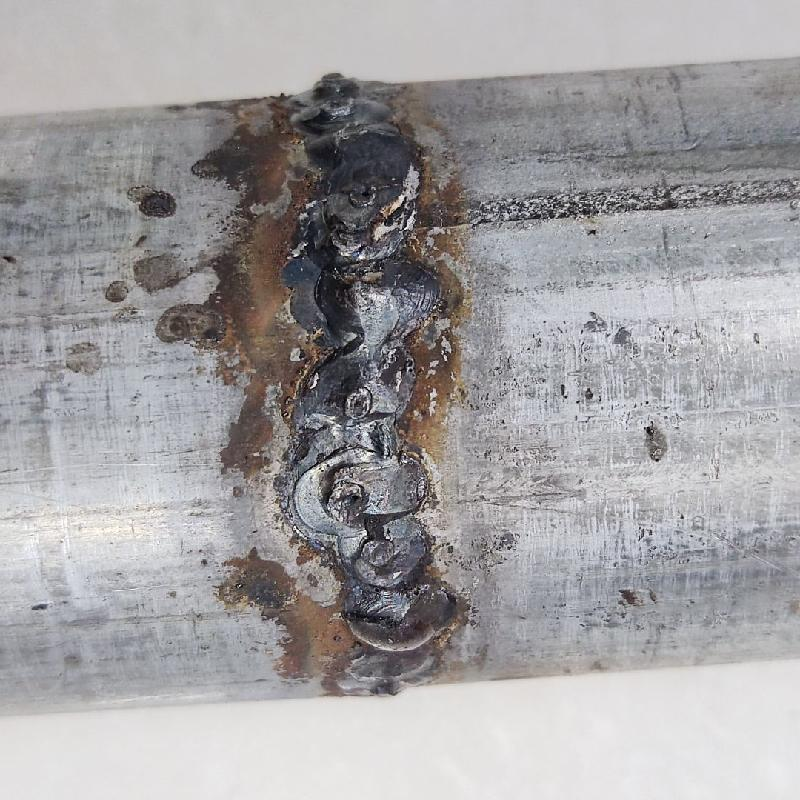Surface_pores: (323, 476, 374, 525), (340, 387, 382, 425), (347, 178, 382, 209)
Weld: (336, 602, 441, 656)
wrong_size: (277, 64, 462, 699)
